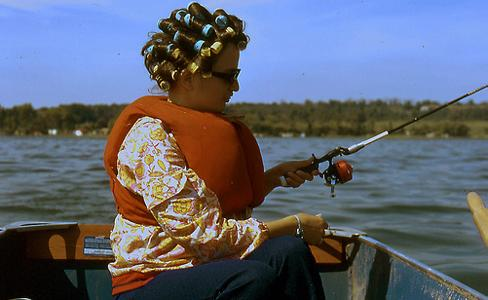person: (105, 4, 328, 300)
